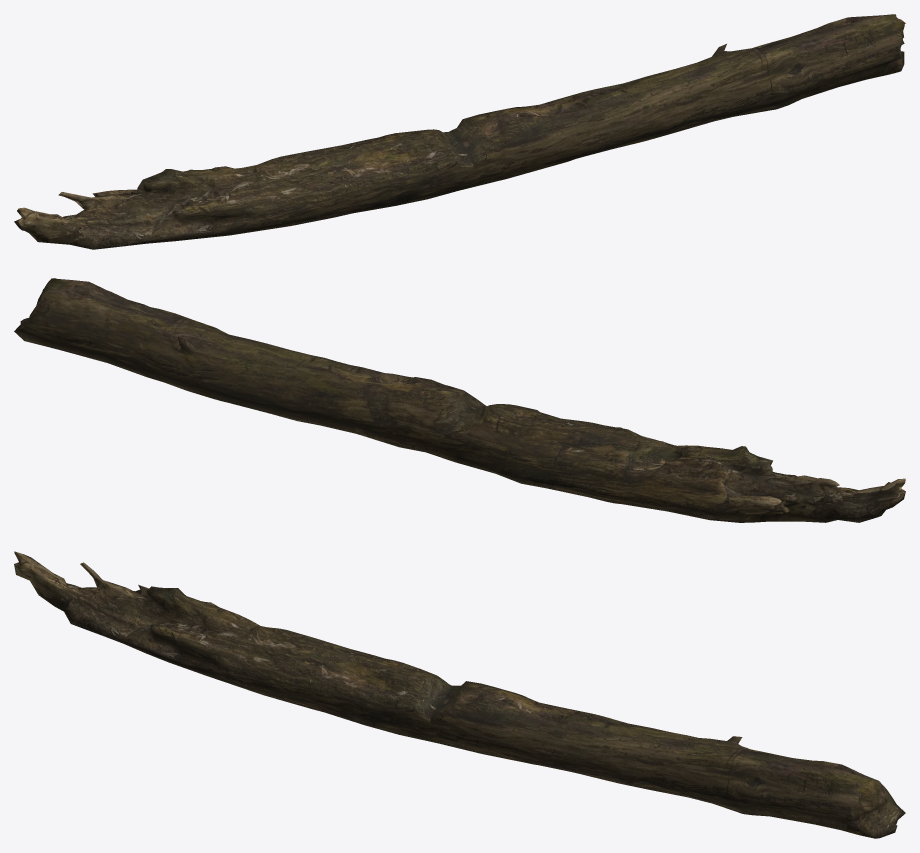
The model's file is pv_log.glb.
3 views of the same model, one above another, from view 1: azimuth 30°, elevation 25°; view 2: azimuth 150°, elevation 25°; view 3: azimuth 330°, elevation 25° (orthographic).
Parts seen in each view (by area): view 1: pv_log; view 2: pv_log; view 3: pv_log.
Boxes of the visible parts, x1,y1,x2,y2 form: pv_log: [14, 14, 905, 249]; pv_log: [14, 278, 905, 522]; pv_log: [14, 551, 905, 838].
Size of the model in its own units: 3.05 by 0.29 by 0.2766.
1 material, 1 textured.
